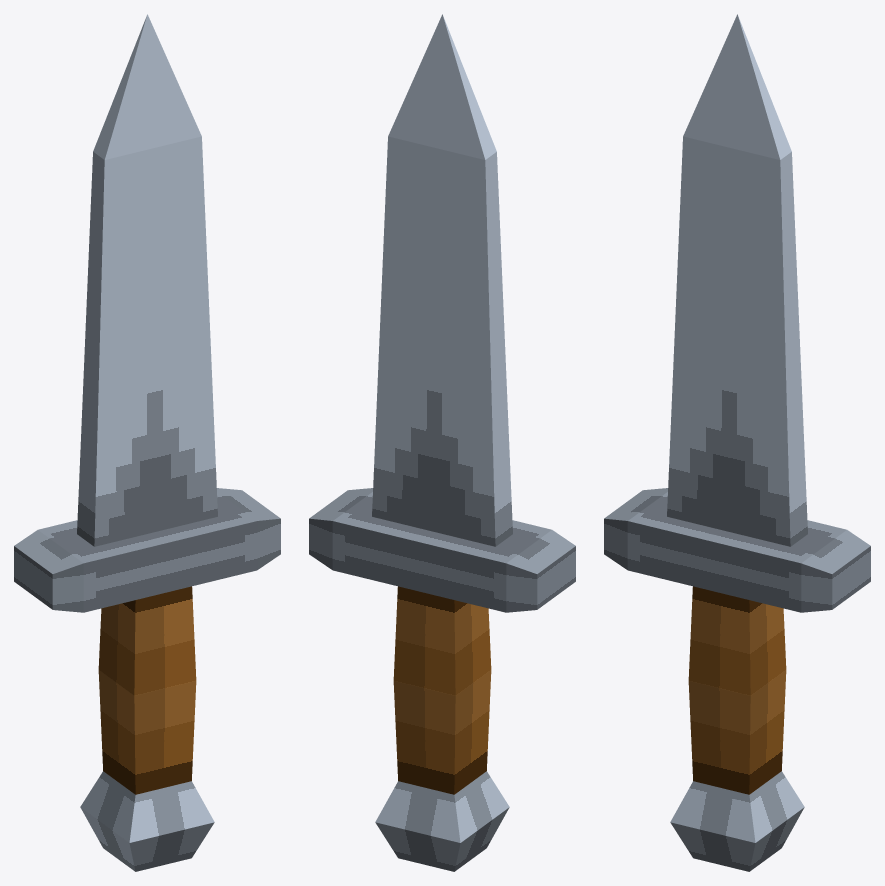
The model's file is Dagger.fbx.
The picture shows the model from 3 angles, left to right: view 1: azimuth 30°, elevation 25°; view 2: azimuth 150°, elevation 25°; view 3: azimuth 330°, elevation 25°; orthographic projection.
Parts seen in each view (by area): view 1: Dagger; view 2: Dagger; view 3: Dagger.
Boxes of the visible parts, x1,y1,x2,y2 form: Dagger: (14,14,280,871); Dagger: (309,14,575,871); Dagger: (604,14,870,871).
Size of the model in its own units: 0.1799 by 0.6324 by 0.0673.
1 material, 1 textured.
